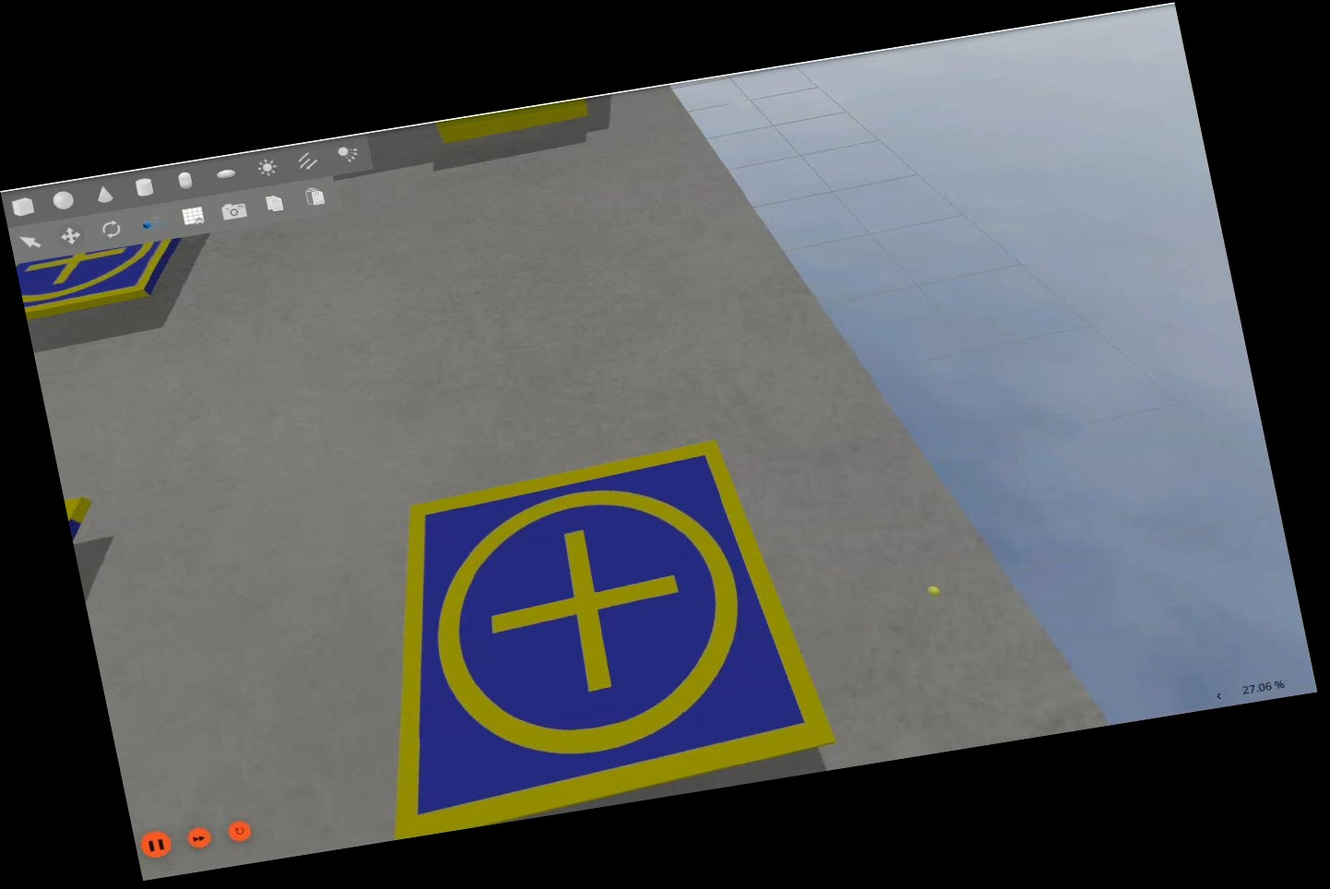small_base: (321, 428, 842, 842), (16, 236, 194, 318)
